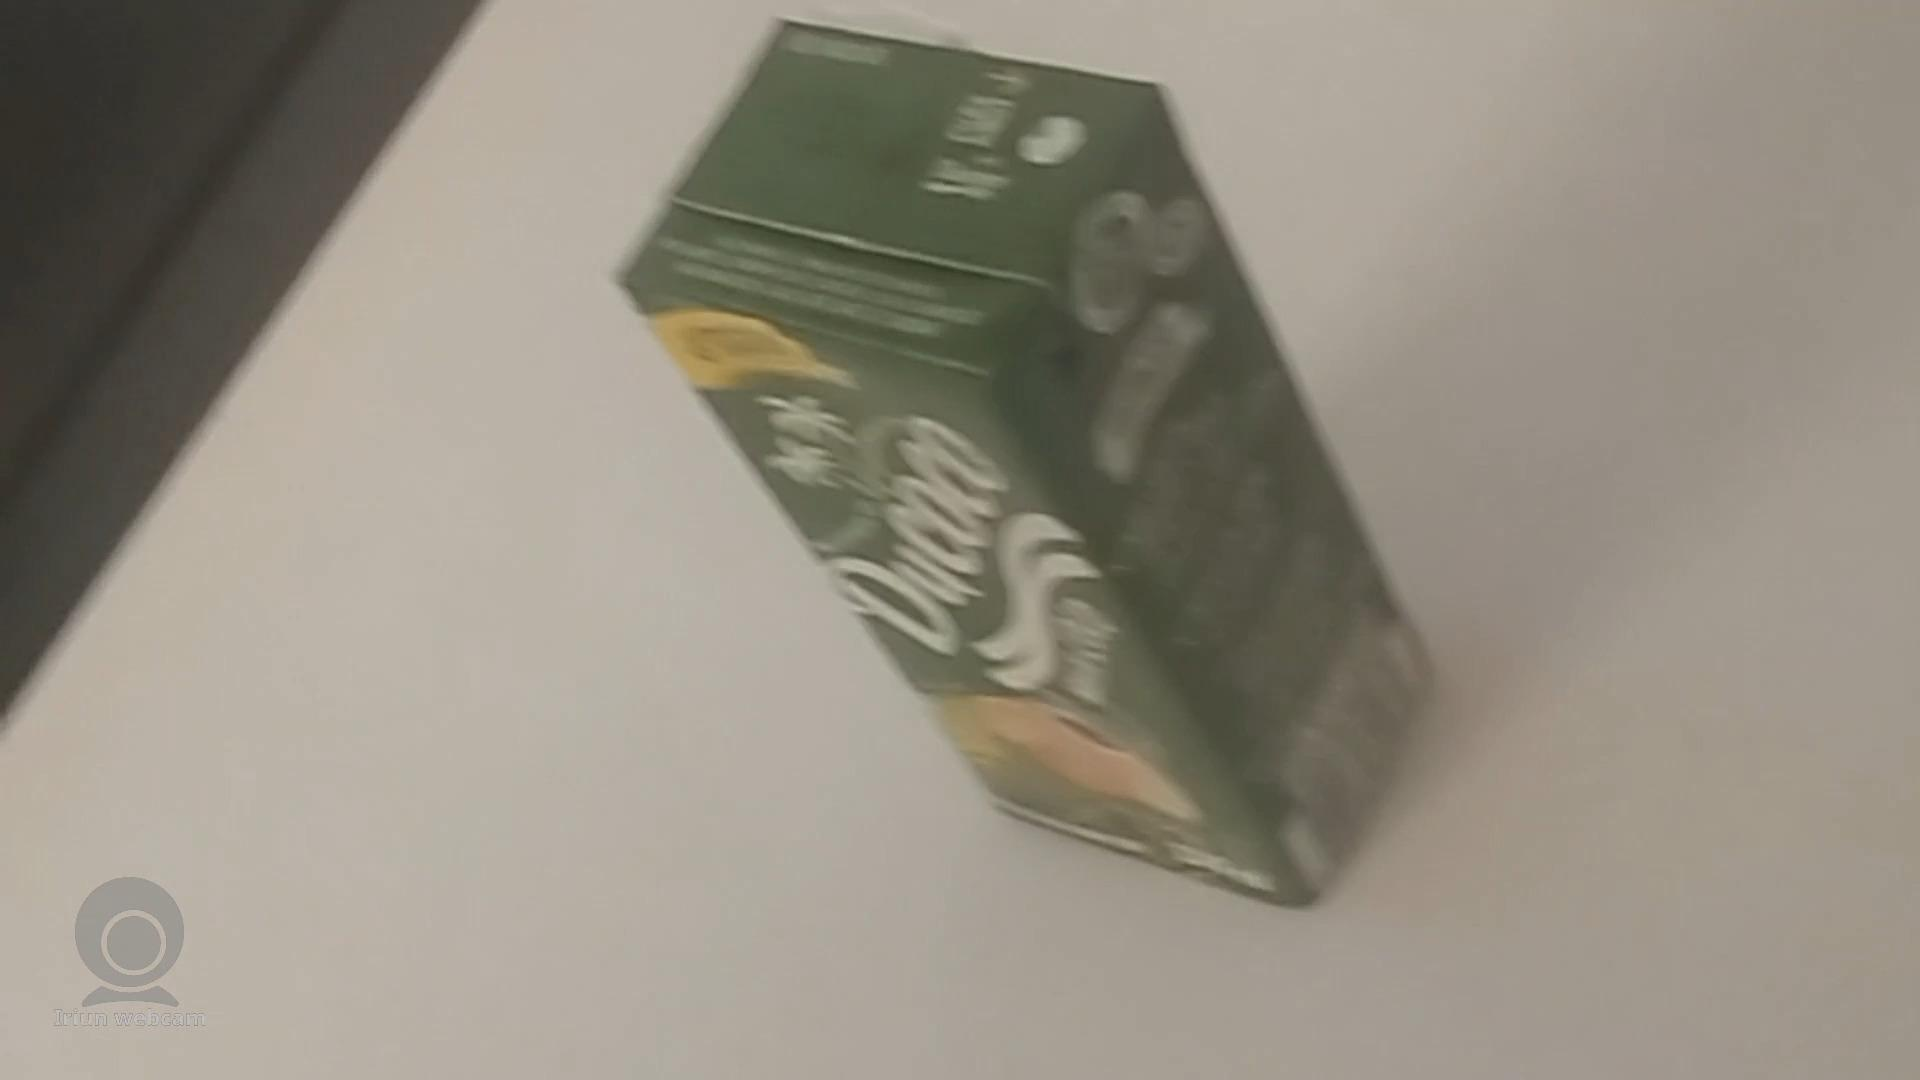coco: (612, 11, 1427, 916)
